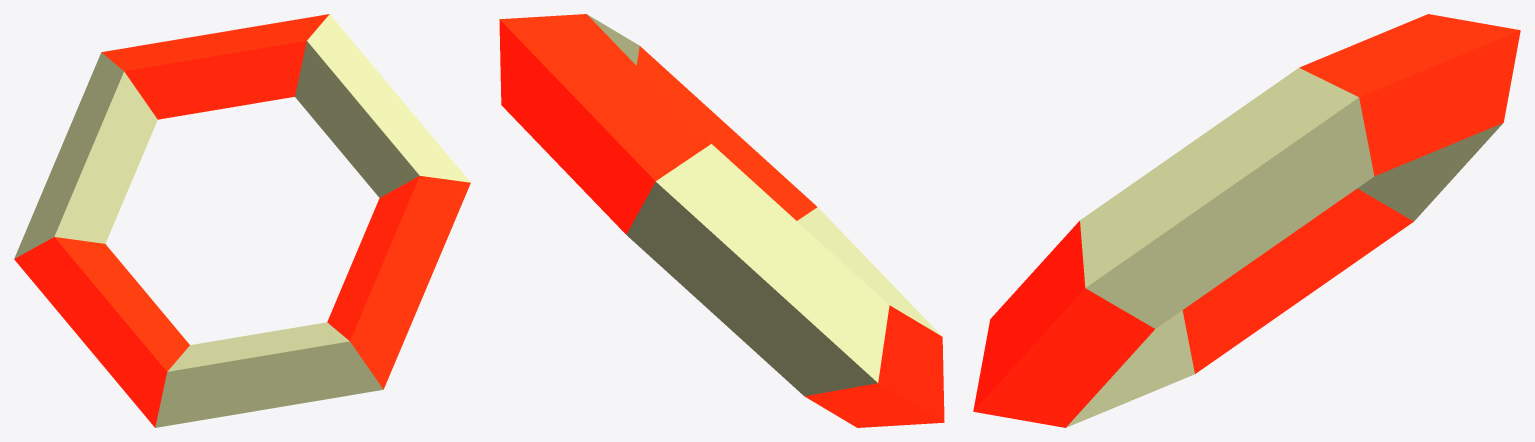
The model's file is life-ring.fbx.
3 renders of one model, left to right at view 1: azimuth 30°, elevation 25°; view 2: azimuth 150°, elevation 25°; view 3: azimuth 270°, elevation 25°, orthographic. The views are drawn at different scales.
Parts seen in each view (by area): view 1: life-ring; view 2: life-ring; view 3: life-ring.
Part boxes in pixels (x1,y1,x2,y2): life-ring: [14, 14, 470, 427]; life-ring: [499, 14, 944, 427]; life-ring: [973, 14, 1520, 427].
Size of the model in its own units: 75.96 by 62.22 by 72.74.
